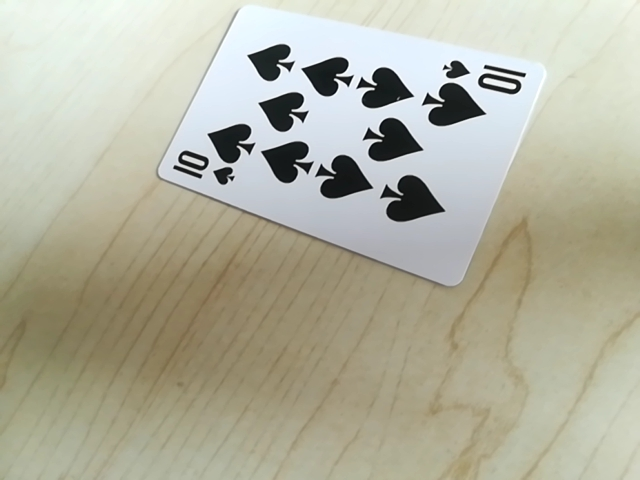ht 10: (435, 56, 534, 93), (165, 152, 238, 190)
